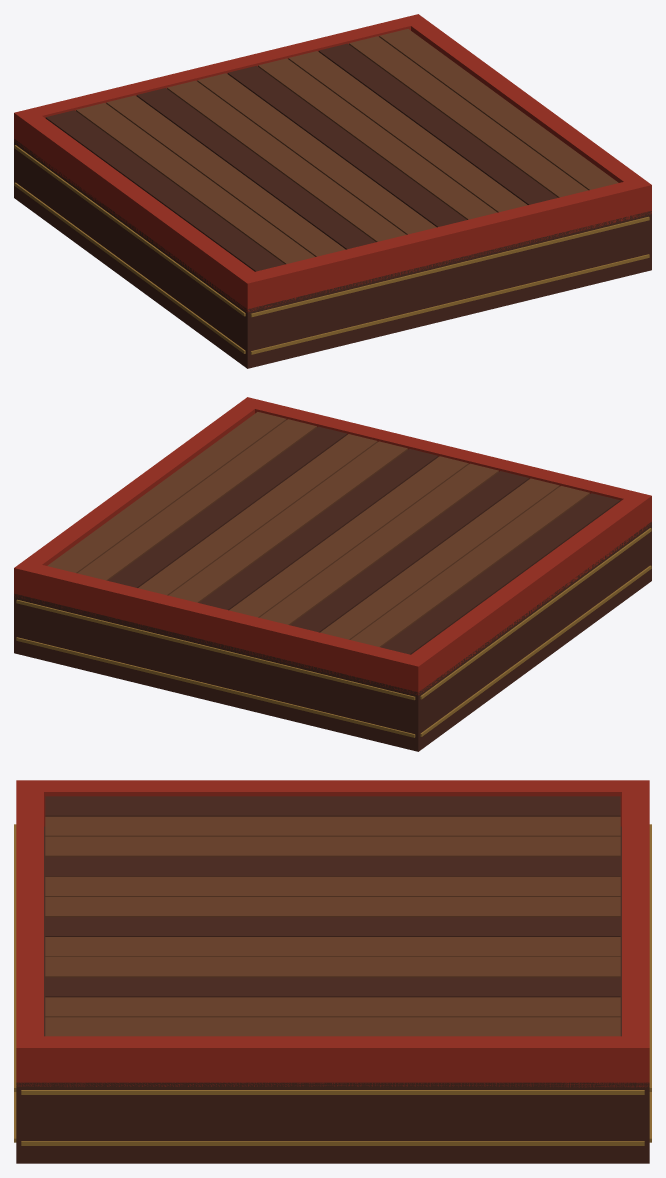
The model's file is louban5.glb.
3 views of the same model, one above another, from view 1: azimuth 30°, elevation 25°; view 2: azimuth 150°, elevation 25°; view 3: azimuth 270°, elevation 25° (orthographic). The views are drawn at different scales.
Visible parts, largest first — view 1: louban5; view 2: louban5; view 3: louban5.
Part boxes in pixels (x1,y1,x2,y2): louban5: (14,14,651,368); louban5: (14,397,651,751); louban5: (14,780,651,1163).
Bounding box in the file's own units: 5 × 1 × 5.
